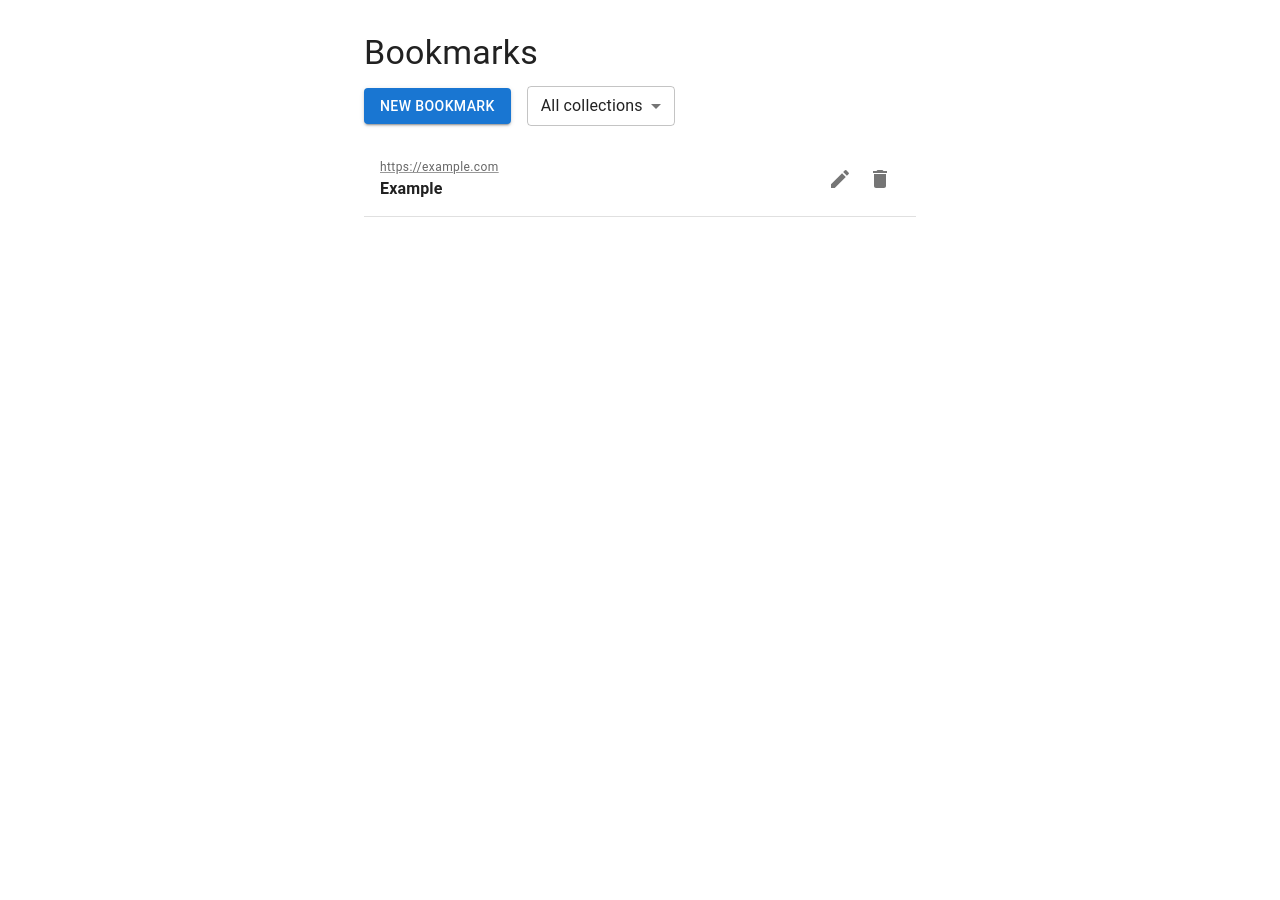
it: Bookmarks — edit › edits an existing bookmark
The width and height of the screenshot is (1280, 900).
Check: the heading "Example" is shown, box [380, 179, 442, 198]
Click the button named "edit example": click(840, 179) [820, 159, 860, 199]
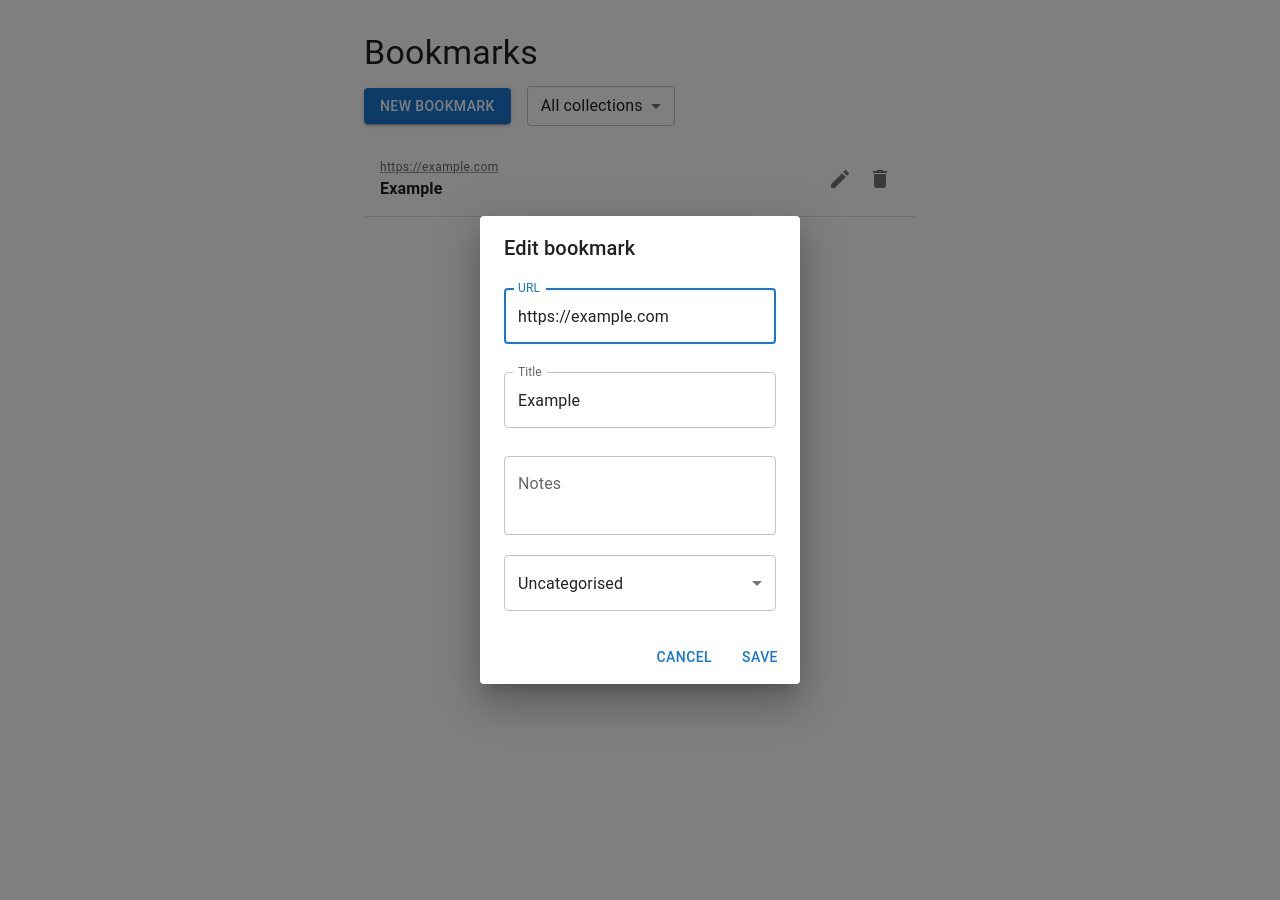
Replace the text in the field labelled "Title" with "Renamed": (640, 400) [504, 372, 776, 428]
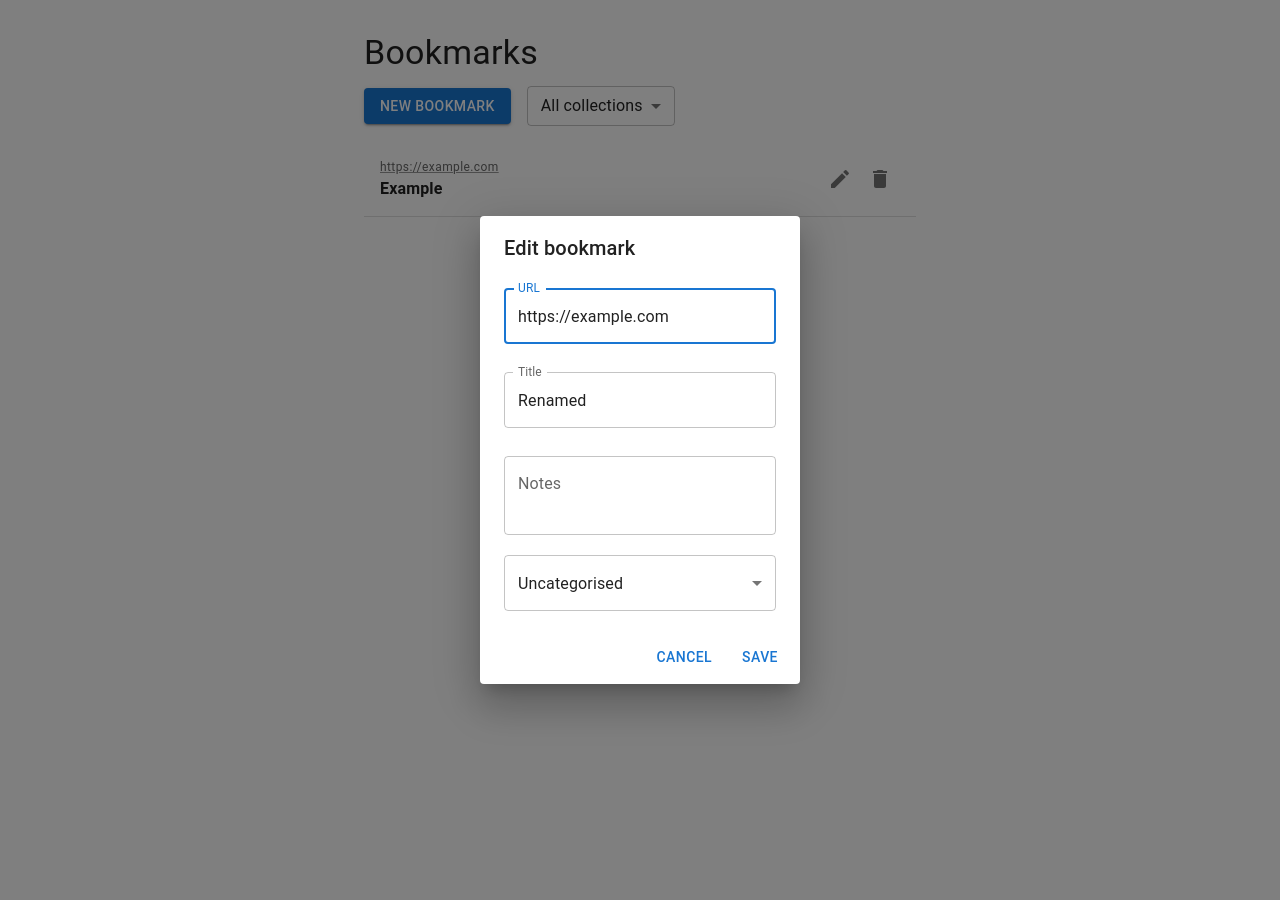
Click the button "Save": click(760, 658) [728, 639, 792, 676]
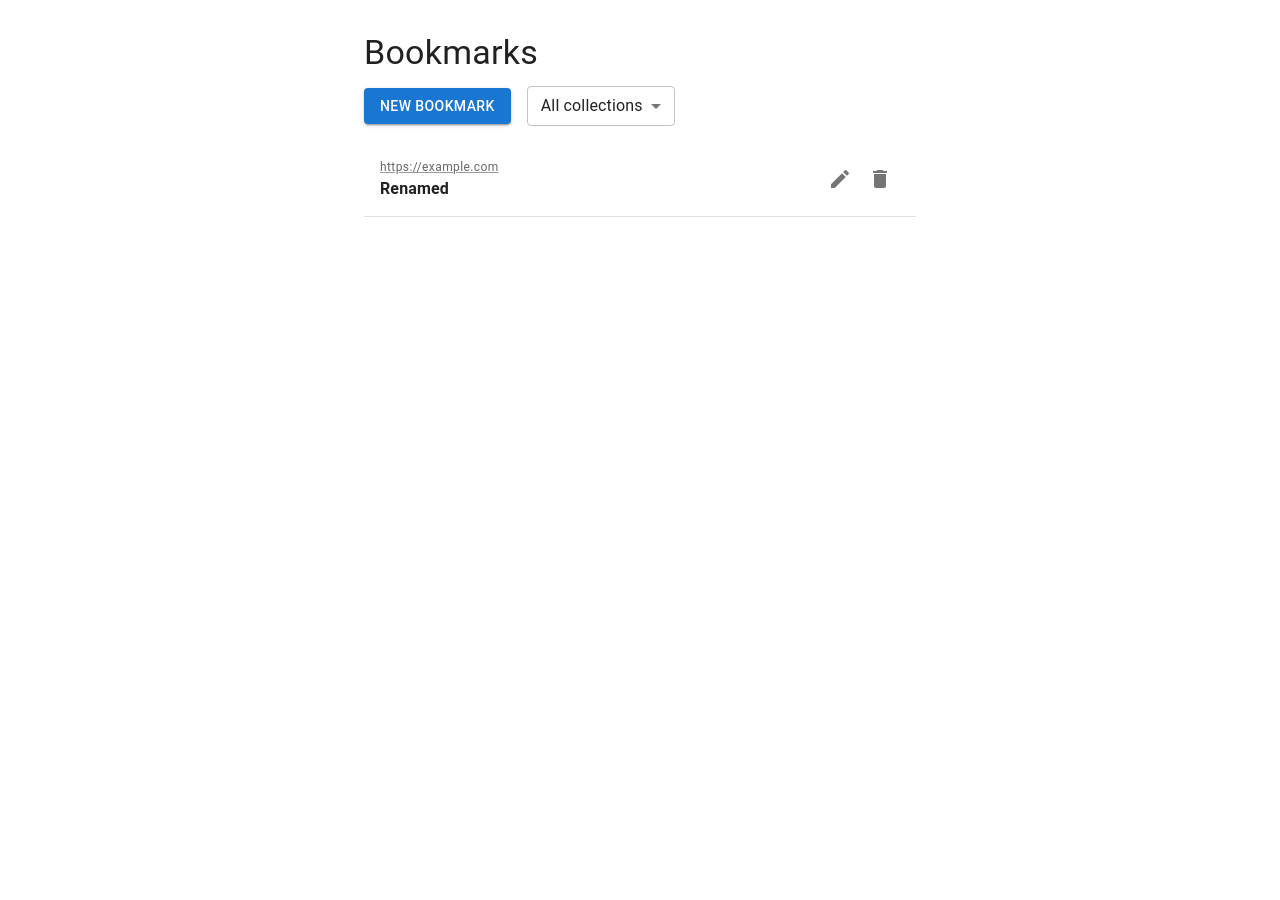
Check: the heading "Renamed" is shown, box [380, 179, 449, 198]
